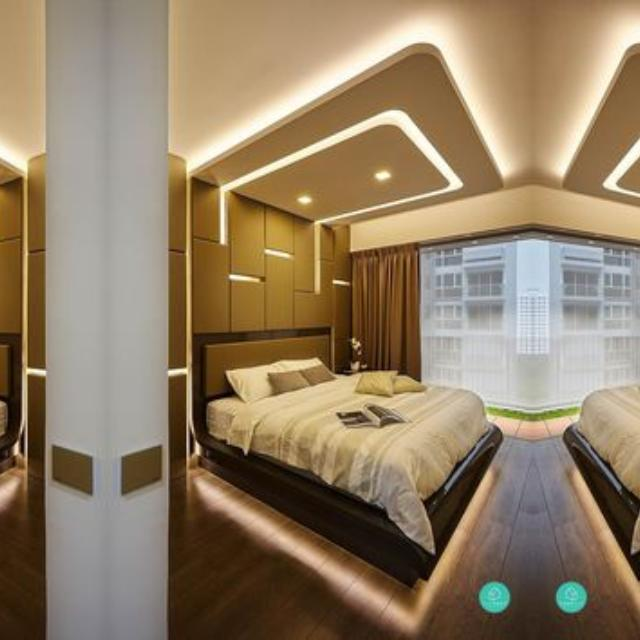bed: (194, 334, 502, 584)
curtain: (352, 247, 418, 378)
